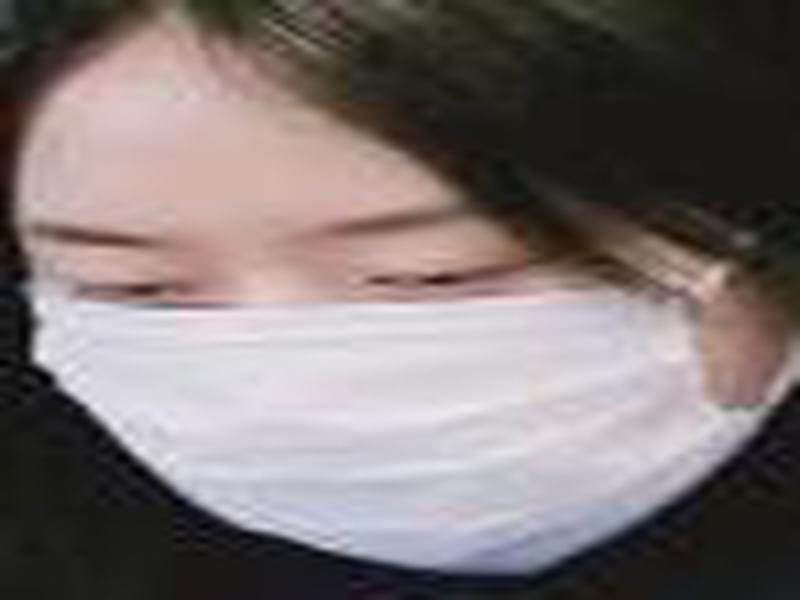with_mask: (8, 1, 800, 578)
